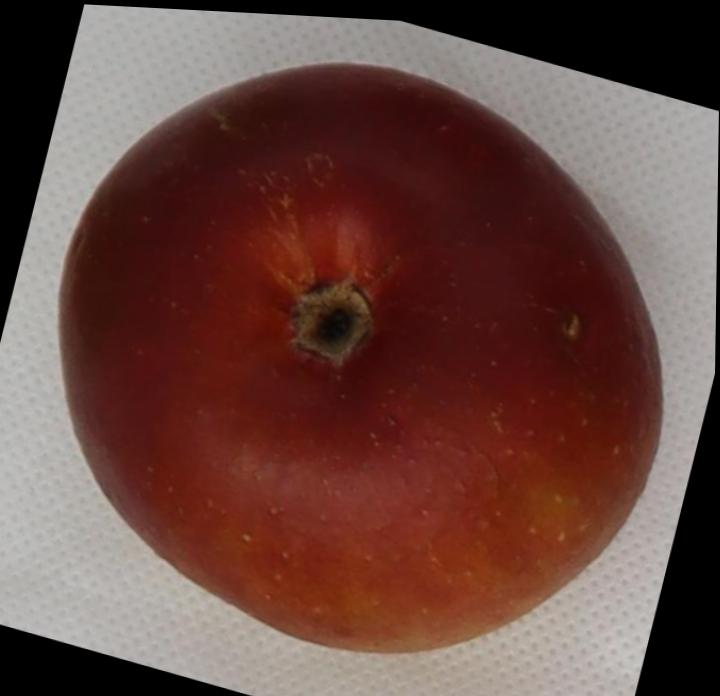apple: (60, 64, 662, 652)
surface_damage: (563, 313, 580, 339)
